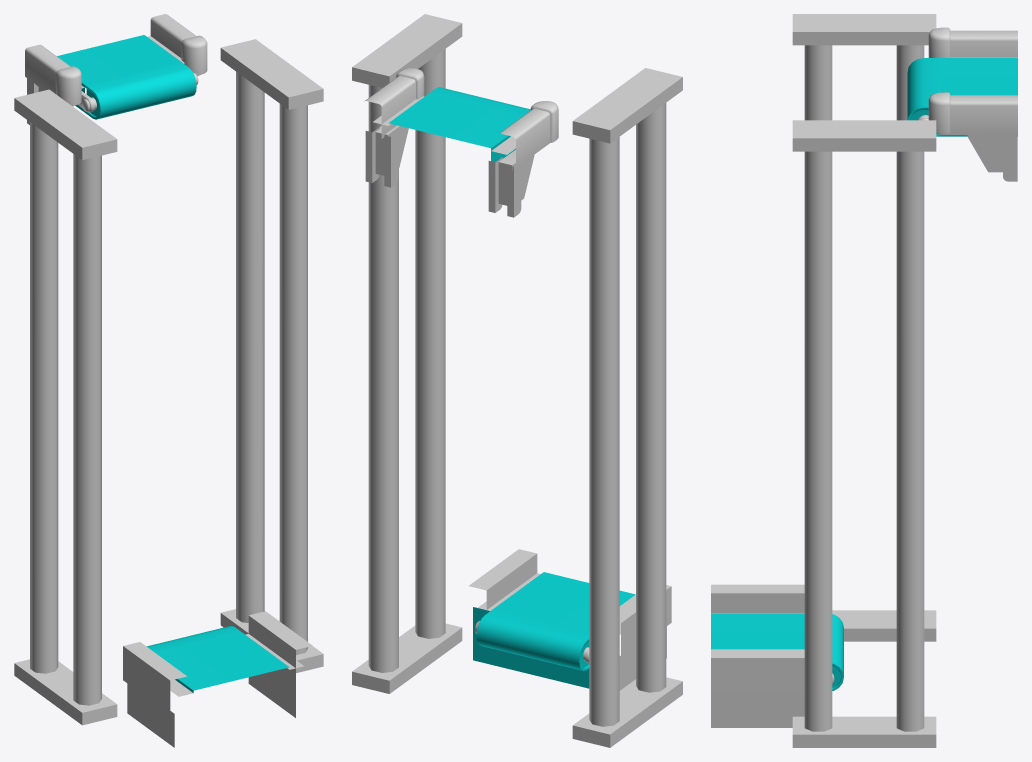
Rendered from Lift2UpForwardInternalVariant.gltf.
3 renders of one model, left to right at view 1: azimuth 30°, elevation 25°; view 2: azimuth 150°, elevation 25°; view 3: azimuth 270°, elevation 25°, orthographic. The views are drawn at different scales.
Parts seen in each view (by area): view 1: Lift_2UpForward_Layer0_LOD0; view 2: Lift_2UpForward_Layer0_LOD0; view 3: Lift_2UpForward_Layer0_LOD0.
Part boxes in pixels (x1,y1,x2,y2): Lift_2UpForward_Layer0_LOD0: [14, 14, 323, 747]; Lift_2UpForward_Layer0_LOD0: [352, 14, 682, 747]; Lift_2UpForward_Layer0_LOD0: [711, 14, 1017, 747].
Size of the model in its own units: 0.9604 by 2.27 by 1.
